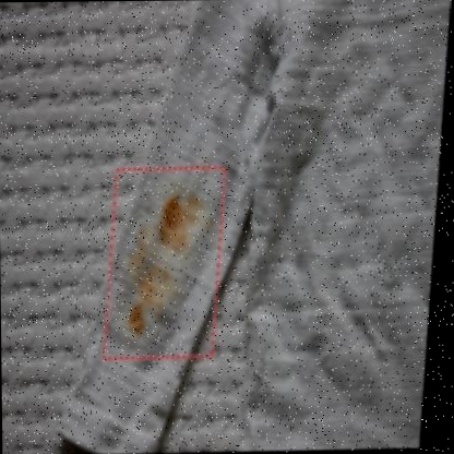kimchi: (126, 181, 209, 345)
